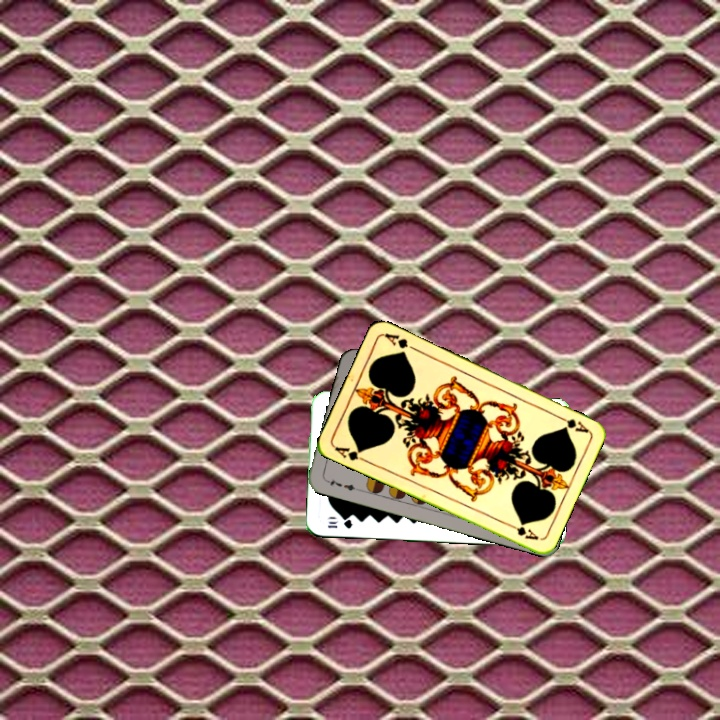E7: (322, 474, 362, 493)
G10: (324, 516, 355, 531)
GA: (552, 411, 591, 436), (330, 442, 370, 465)
